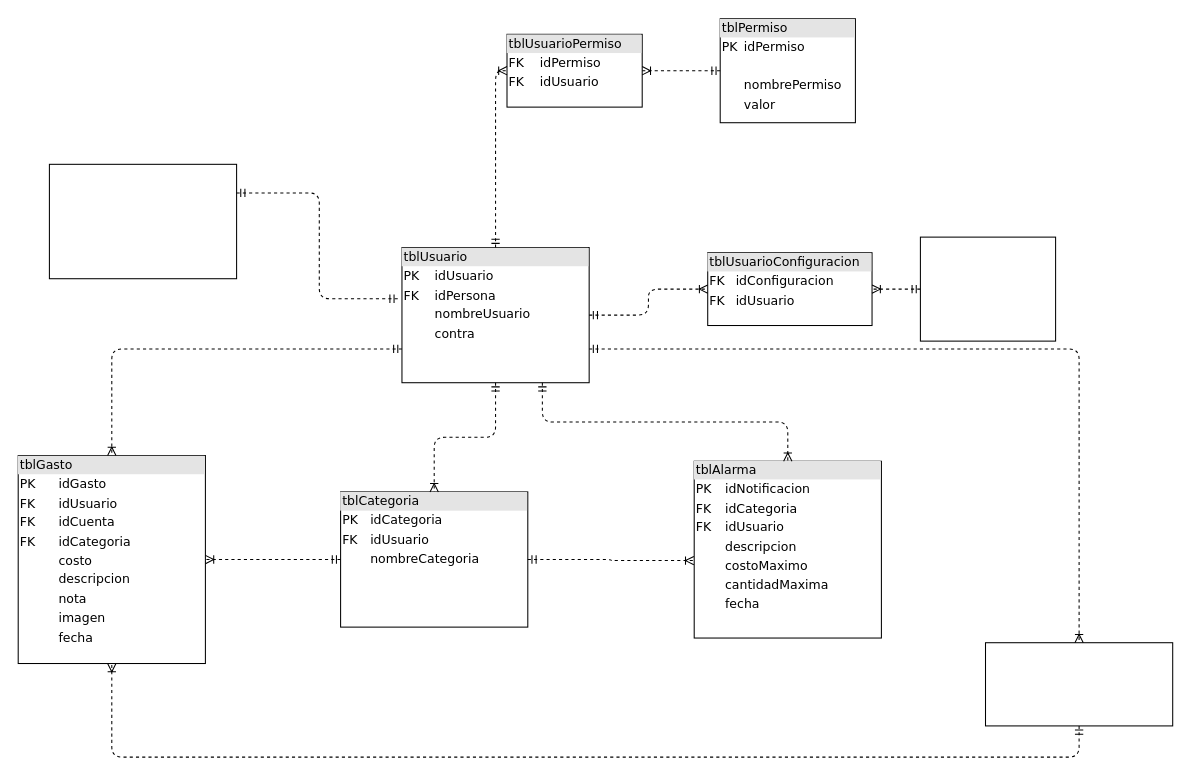
This 1192x784 diagram has some shape labels left out. Here are the shapes that lost their labels. From the top down, the centre of each, then its label:
At point (142, 221): "tblPersona PK idPersona nombre apellido correo".
At point (987, 288): "tblConfiguracion PK idConfiguracion nombrePermiso valor".
At point (1078, 684): "tblCuenta PK idCuenta FK idUsuario nombreCuenta".
